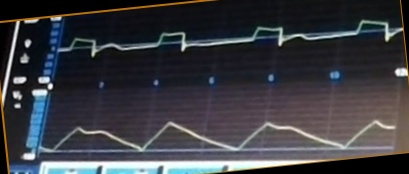Premature_cycling Flow: (60, 18, 403, 66)
Premature_cycling Volume: (42, 116, 394, 158)
